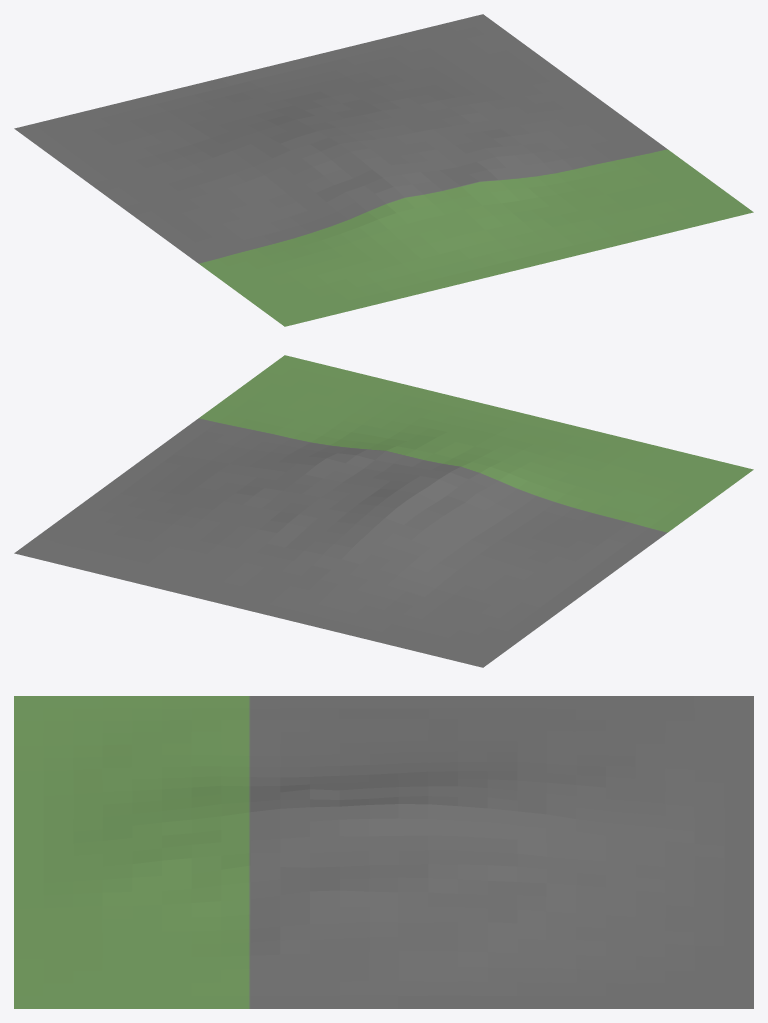
File: Ground_Snow.fbx
The picture shows the model from 3 angles, top to bottom: view 1: azimuth 30°, elevation 25°; view 2: azimuth 150°, elevation 25°; view 3: azimuth 270°, elevation 25°; orthographic projection. The views are drawn at different scales.
Visible parts, largest first — view 1: Ground_Snow; view 2: Ground_Snow; view 3: Ground_Snow.
Part boxes in pixels (x1,y1,x2,y2): Ground_Snow: (14,14,753,326); Ground_Snow: (14,355,753,667); Ground_Snow: (14,696,753,1008).
Size of the model in its own units: 2000 by 88.54 by 2000.
1 material, 1 textured.
